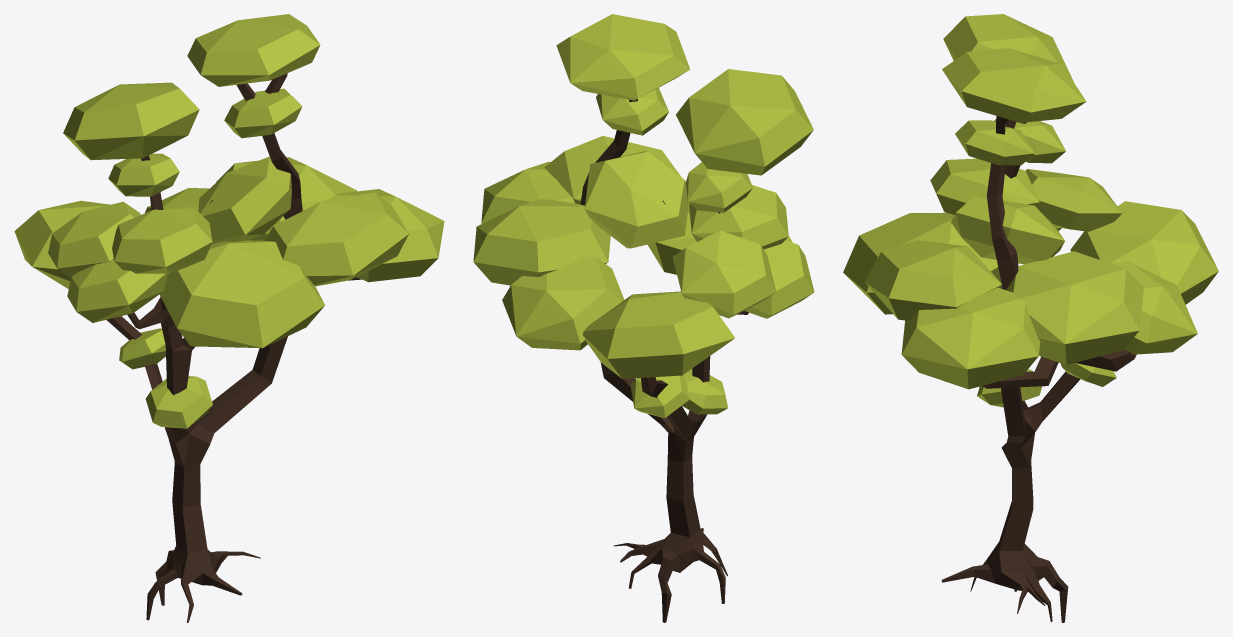
The model's file is Tree_05.fbx.
3 views of the same model, side by side, from view 1: azimuth 30°, elevation 25°; view 2: azimuth 150°, elevation 25°; view 3: azimuth 270°, elevation 25° (orthographic). The views are drawn at different scales.
Parts seen in each view (by area): view 1: Tree_05; view 2: Tree_05; view 3: Tree_05.
Part boxes in pixels (left/top/right/bottom): Tree_05: left=14, top=14, right=444, bottom=622; Tree_05: left=473, top=14, right=814, bottom=622; Tree_05: left=843, top=14, right=1218, bottom=622.
Size of the model in its own units: 11.23 by 17.5 by 9.97.
